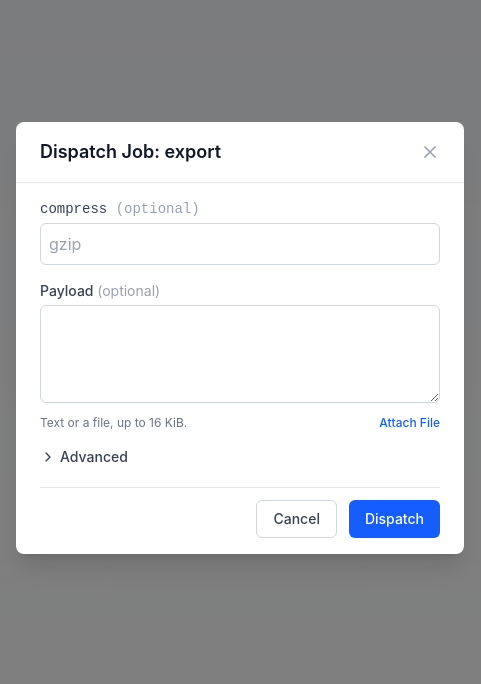
Test case: DispatchJobModal advanced options › reject a priority that is not a whole number of 1 or more
Click the button "Advanced".
click(84, 457)  # box top-left (40, 435), bottom-right (128, 479)
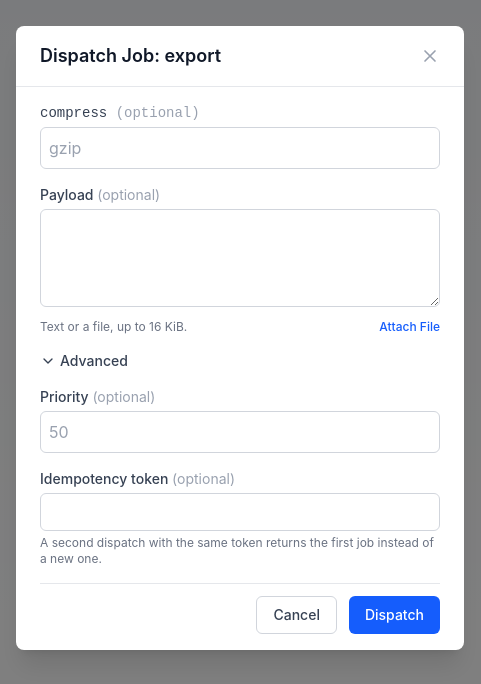
Type "0" into the field labelled "Priority (optional)".
click(240, 432); type("0")  # box top-left (40, 411), bottom-right (440, 453)
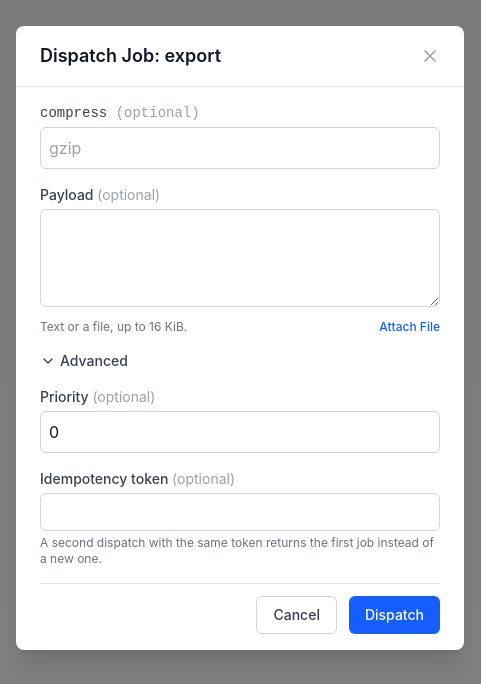
Click the button "Dispatch".
click(394, 615)  # box top-left (349, 596), bottom-right (440, 634)
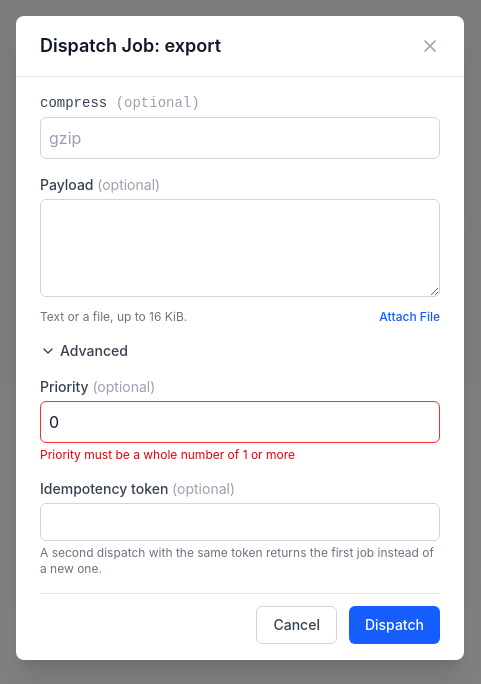
Expected: the text "Priority must be a whole number of 1 or more" is shown, top-left (40, 447), bottom-right (295, 462)
